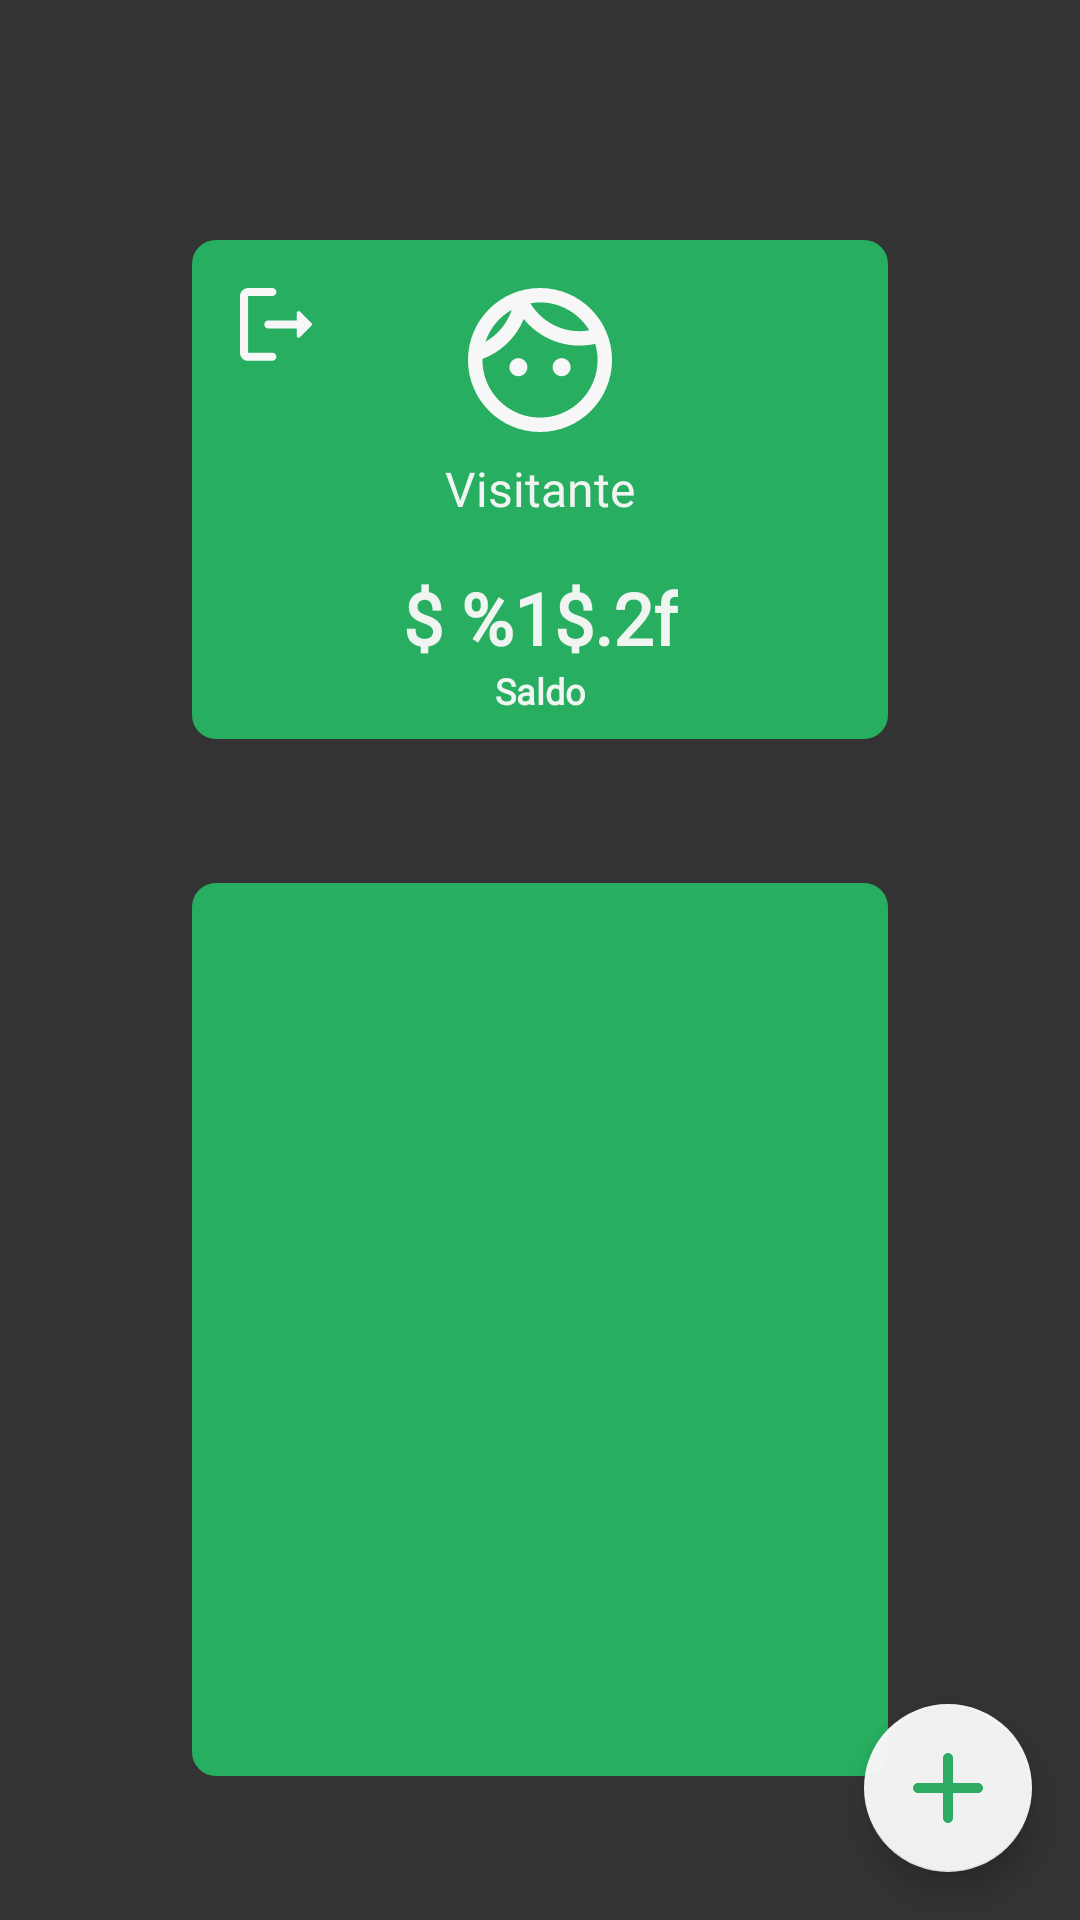

Screen size 1080w x 1920h. Icon name, then its center in pixels as point (x, y):
add: point (948, 1788)
profile mini: point (540, 360)
sign out: point (276, 324)
